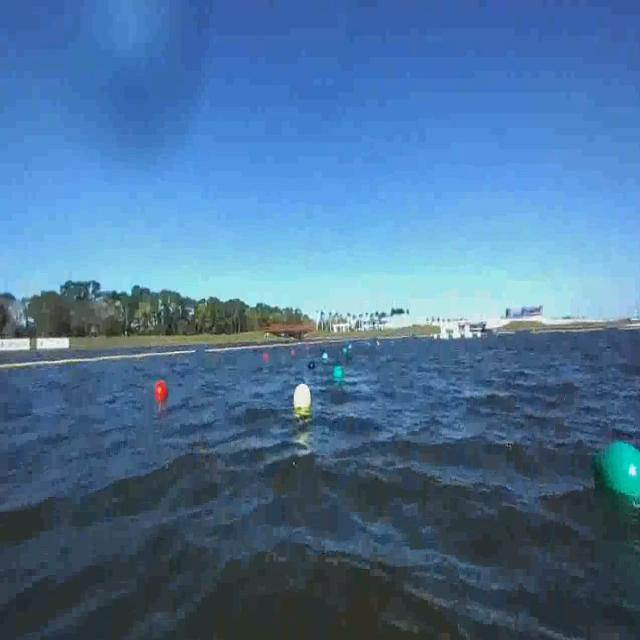black-buoy: (307, 357, 316, 372)
green-buoy: (593, 439, 640, 509), (334, 364, 346, 381)
red-buoy: (156, 381, 169, 402)
yellow-buoy: (294, 382, 312, 414)
